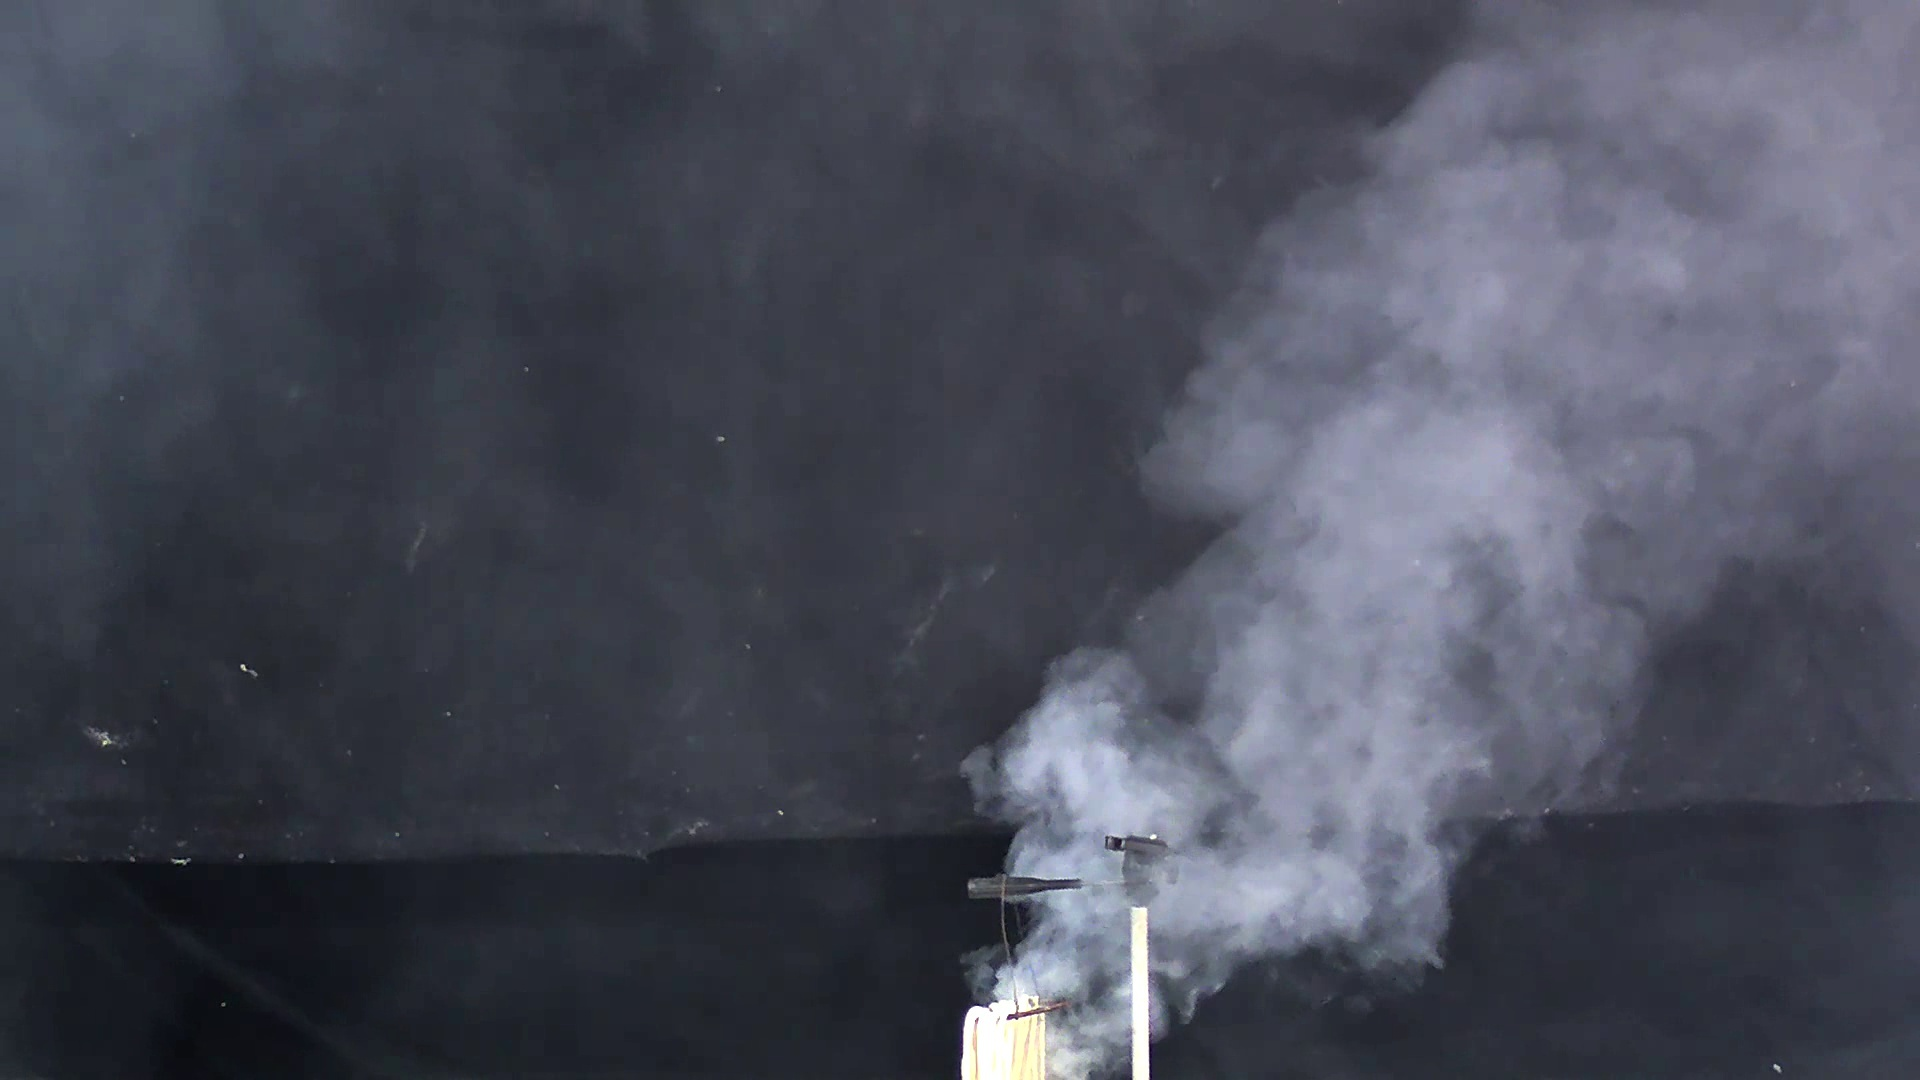smoke: (936, 30, 1888, 1025)
